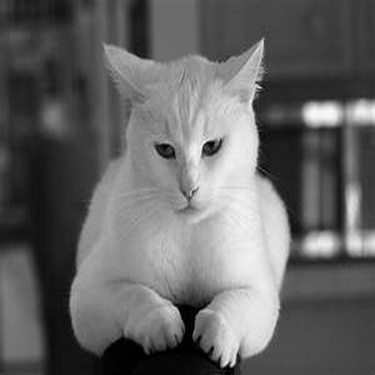cat: (69, 32, 291, 369)
